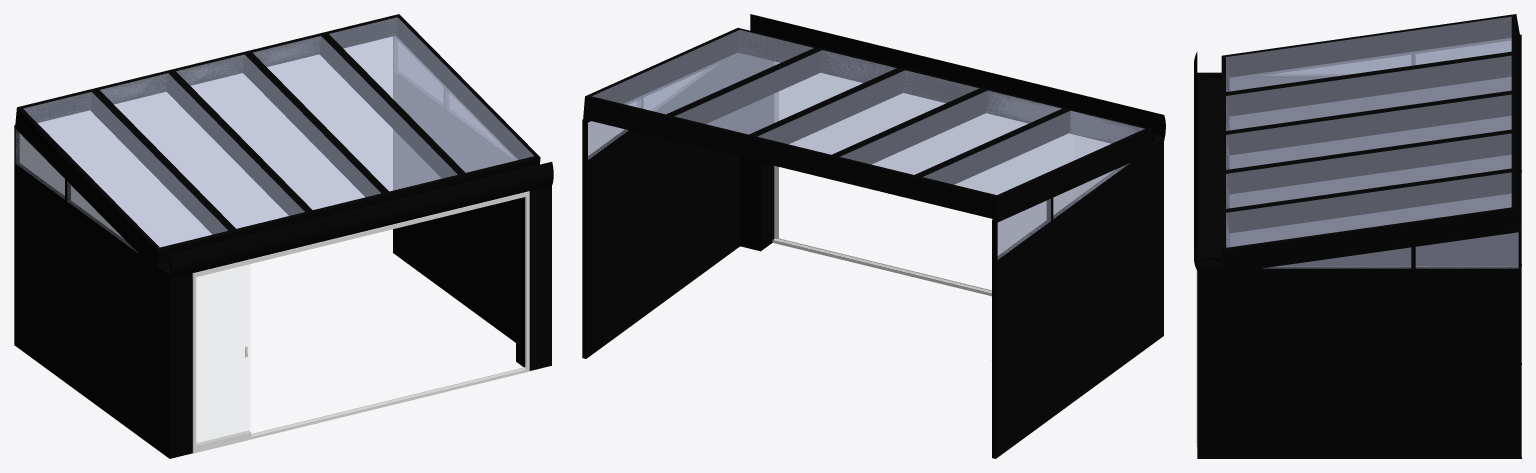
The picture shows the model from 3 angles, left to right: view 1: azimuth 30°, elevation 25°; view 2: azimuth 150°, elevation 25°; view 3: azimuth 270°, elevation 25°; orthographic projection. The views are drawn at different scales.
Parts seen in each view (by area): view 1: Component_, yan_kompoz, yan_komp01, ayaklar1, Glass_slid, YAN_CAM1, YAN_CAM2, yan_duvar1, yan_duvar2; view 2: Component_, yan_kompoz, yan_komp01, ayaklar1, YAN_CAM1, Glass_slid, yan_duvar1, YAN_CAM2, yan_duvar2; view 3: Component_, yan_komp01, yan_kompoz, ayaklar1, YAN_CAM2, yan_duvar2, YAN_CAM1, yan_duvar1, Glass_slid.
Boxes of the visible parts, x1,y1,x2,y2 form: Component_: (15, 14, 553, 278); yan_kompoz: (14, 165, 156, 448); yan_komp01: (393, 73, 515, 342); ayaklar1: (156, 185, 551, 458); Glass_slid: (192, 191, 529, 453); YAN_CAM1: (15, 129, 138, 253); YAN_CAM2: (398, 41, 512, 157); yan_duvar1: (14, 125, 154, 267); yan_duvar2: (393, 36, 517, 160); Component_: (583, 14, 1165, 219); yan_kompoz: (992, 152, 1149, 458); yan_komp01: (582, 53, 740, 358); ayaklar1: (740, 54, 1163, 345); YAN_CAM1: (997, 163, 1129, 259); Glass_slid: (772, 62, 991, 296); yan_duvar1: (992, 152, 1148, 263); YAN_CAM2: (588, 71, 703, 159); yan_duvar2: (582, 53, 736, 163); Component_: (1194, 14, 1519, 270); yan_komp01: (1225, 271, 1521, 458); yan_kompoz: (1230, 78, 1521, 265); ayaklar1: (1197, 77, 1224, 458); YAN_CAM2: (1262, 232, 1518, 268); yan_duvar2: (1227, 227, 1521, 270); YAN_CAM1: (1273, 41, 1510, 75); yan_duvar1: (1231, 34, 1521, 78); Glass_slid: (1196, 270, 1197, 446).
Bounding box in the file's own units: 5000 × 2997 × 3559.
